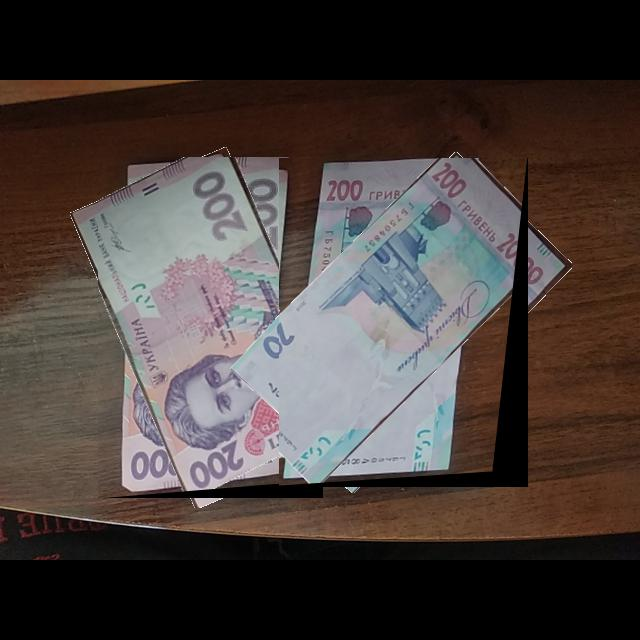200uah: (279, 158, 529, 488), (98, 157, 324, 499)
